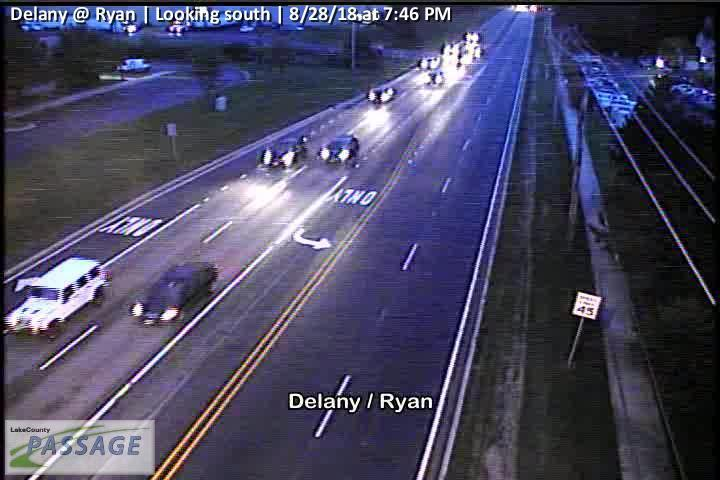SUV: (5, 256, 105, 339), (262, 135, 308, 170), (319, 135, 360, 166), (115, 58, 151, 72), (368, 86, 397, 103)
Truck: (128, 261, 220, 327)
